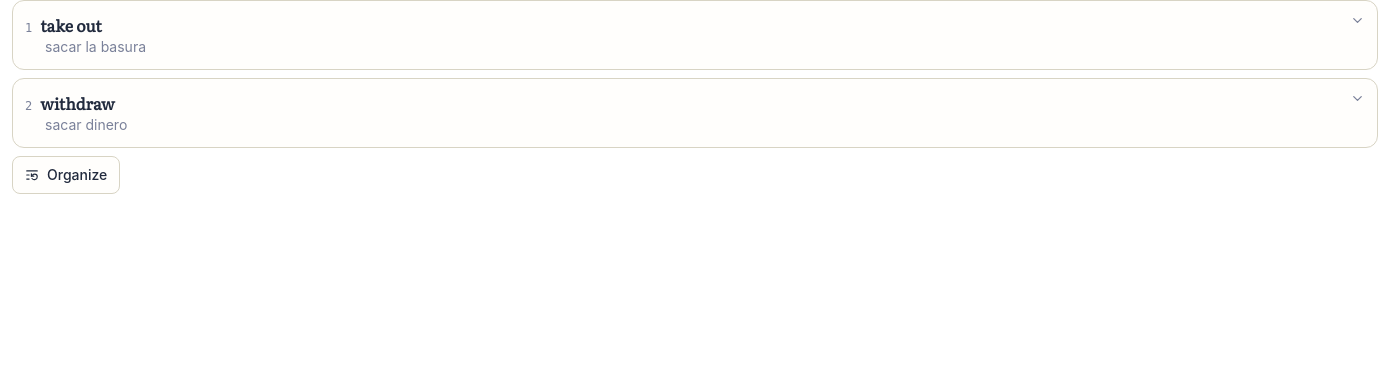
Scenario: structured meaning presentation and editing › shows every gloss and cue while keeping notes collapsed
Check: the text "take out" is shown, box [40,13,102,37]
Check: the text "withdraw" is shown, box [40,91,115,115]
Click the 1st button named "Expand meaning": (1358, 20) [1350,13,1365,28]
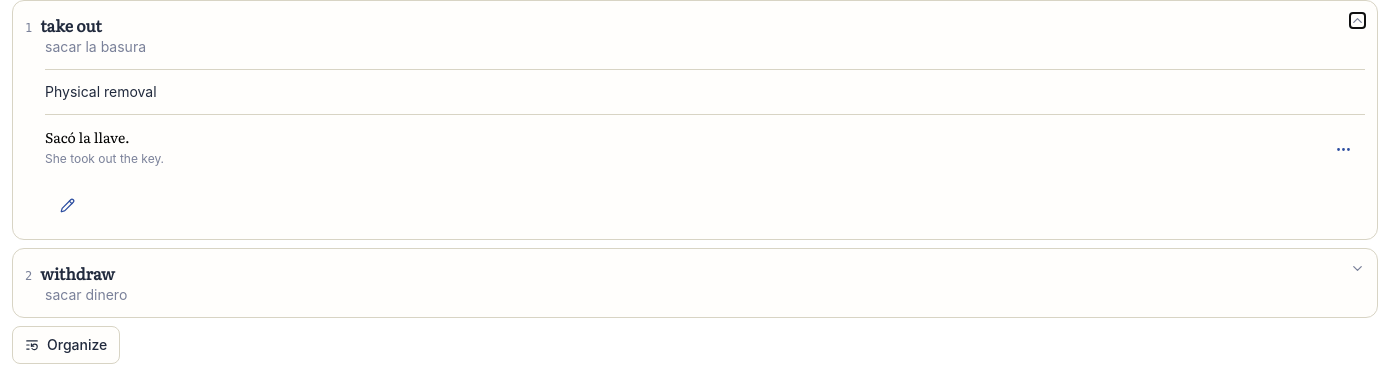
Check: the text "Physical removal" is shown, box [45,83,157,100]
